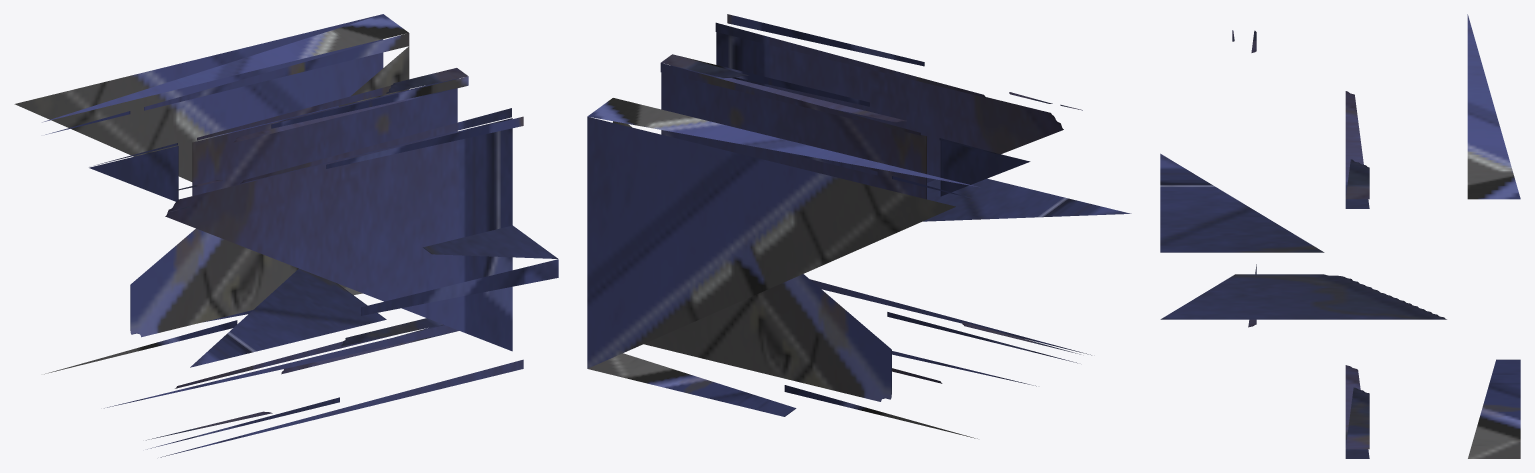
3 renders of one model, left to right at view 1: azimuth 30°, elevation 25°; view 2: azimuth 150°, elevation 25°; view 3: azimuth 270°, elevation 25°, orthographic. The views are drawn at different scales.
Size of the model in its own units: 1.24 by 0.8101 by 1.02.
